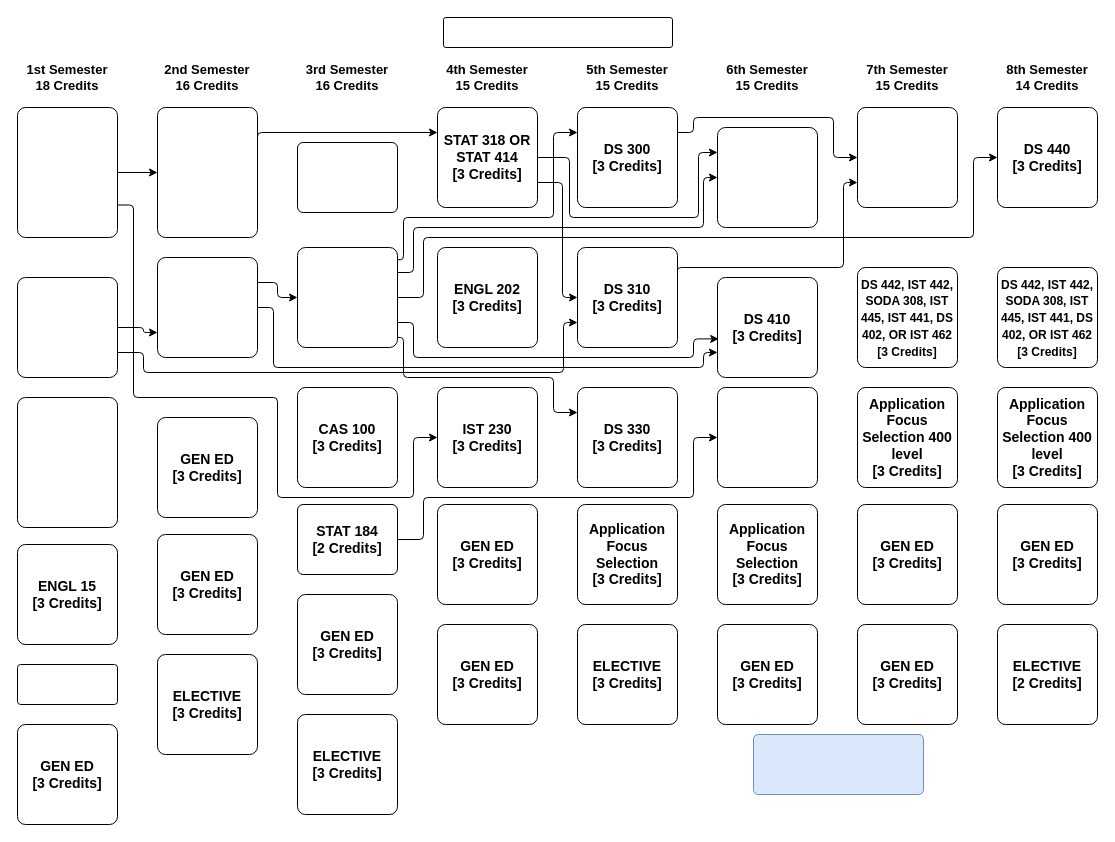
This 1115x842 diagram has some shape labels left out. Here are the shapes that lost their labels. From the top down, the centre of each, then its label:
pixel 557 32: Data Science IST
pixel 67 172: MATH 140 [4 Credits]
pixel 207 172: MATH 141 [4 Credits]
pixel 347 177: MATH 220 [2 Credits]
pixel 767 177: DS 320 [3 Credits]
pixel 907 157: DS 340W [3 Credits]
pixel 207 307: CMPSC 132 [3 Credits]
pixel 347 297: DS 220 [3 Credits]
pixel 67 327: CMPSC 131 [3 Credits]
pixel 767 437: STAT 380 [3 Credits]
pixel 67 462: DS 200 [4 Credits]
pixel 67 684: PSU 17 [1 Credits]
pixel 838 764: SUMMER COURSE IST 495 [1 Credit]
